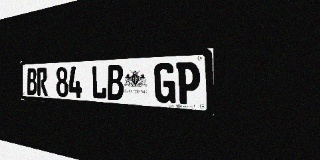4: (68, 66, 82, 98)
8: (56, 67, 68, 97)
B: (107, 65, 124, 101), (27, 68, 37, 95)
G: (154, 62, 176, 104)
L: (91, 65, 107, 100)
P: (176, 62, 200, 105)
R: (37, 68, 48, 96)
